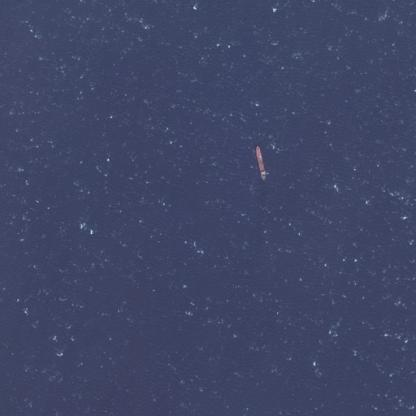ship: (250, 139, 271, 184)
